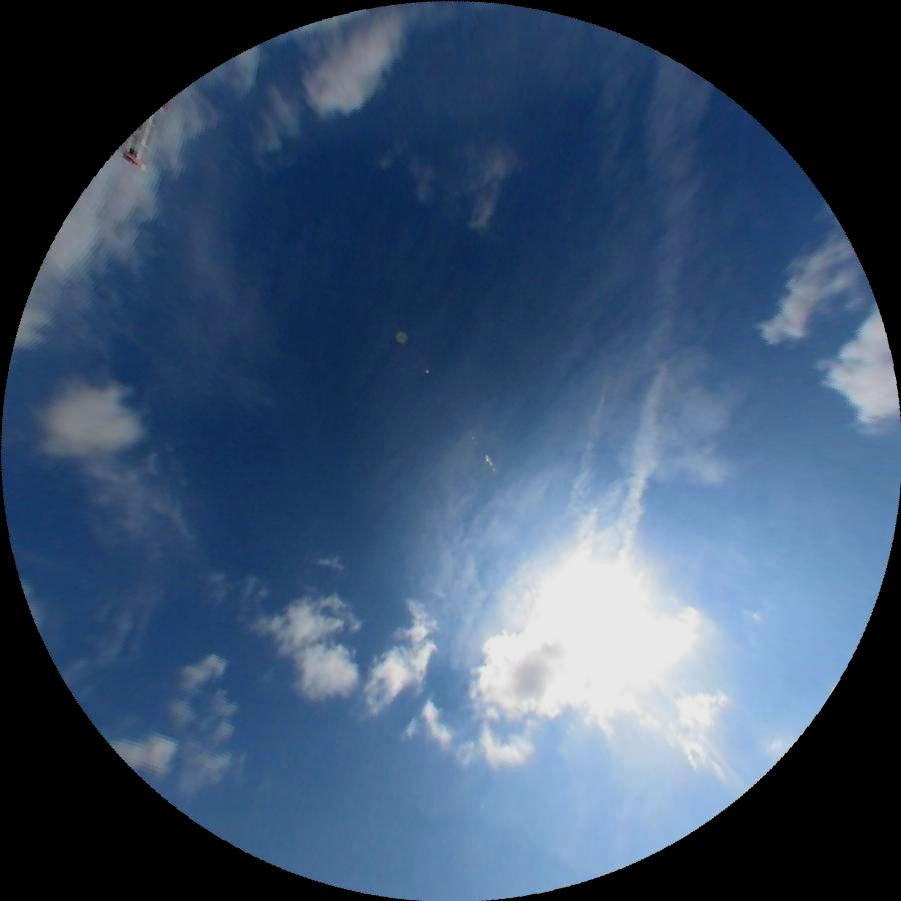contrail veryold: (595, 51, 719, 566), (561, 376, 608, 557)
parasite: (643, 668, 749, 791)
sun: (531, 559, 674, 707)
